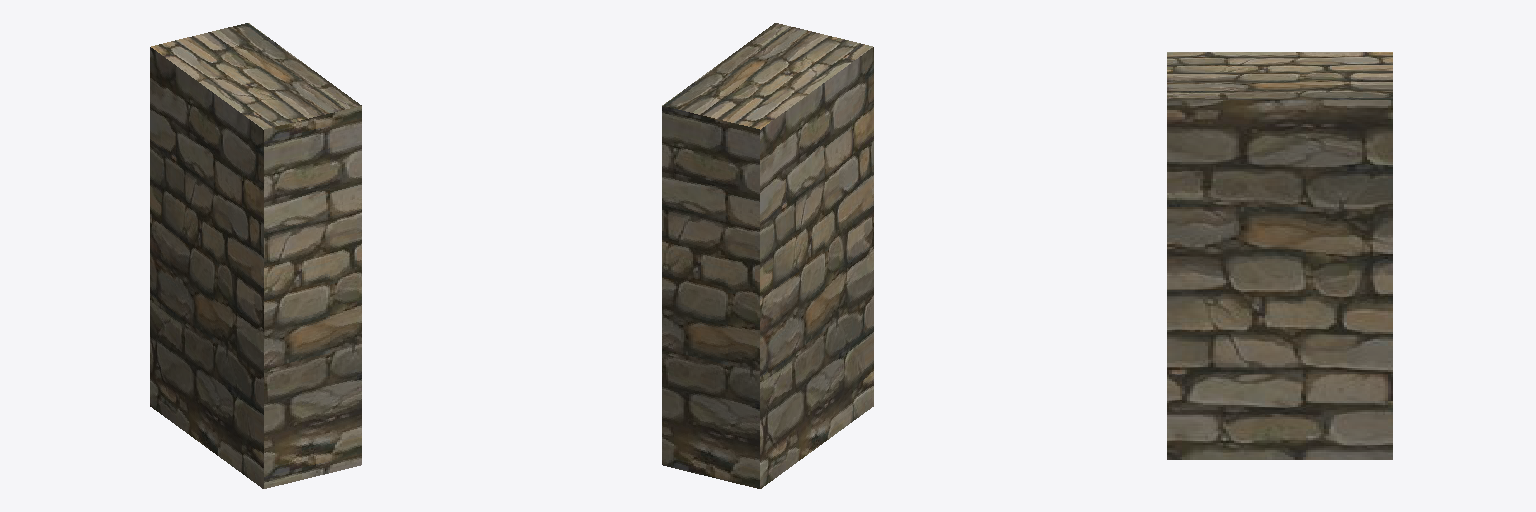
The picture shows the model from 3 angles: view 1: azimuth 30°, elevation 25°; view 2: azimuth 150°, elevation 25°; view 3: azimuth 270°, elevation 25°; orthographic projection.
Visible parts, largest first — view 1: Cube.006_Cube.008; view 2: Cube.006_Cube.008; view 3: Cube.006_Cube.008.
Boxes of the visible parts, <box> form: Cube.006_Cube.008: <box>150,23,361,488</box>; Cube.006_Cube.008: <box>662,23,873,488</box>; Cube.006_Cube.008: <box>1167,52,1392,459</box>.
Bounding box in the file's own units: 4 × 14 × 8.
1 materials, 1 textured.